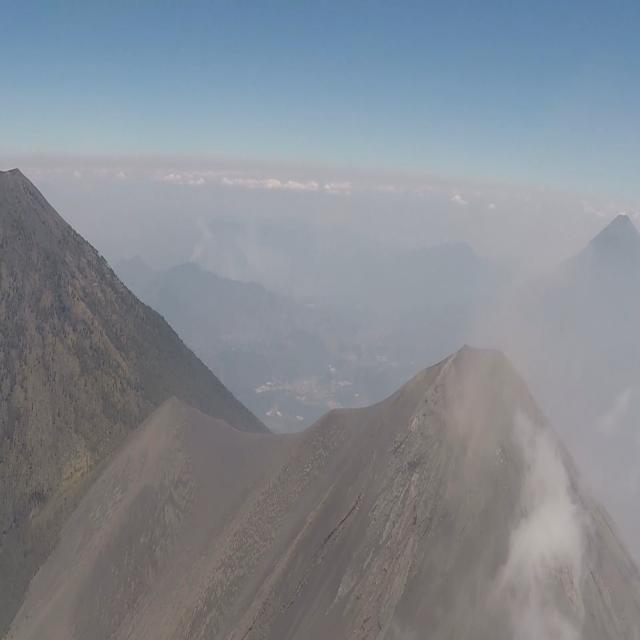Summit: (288, 308, 636, 594)
